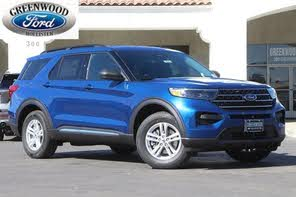Ford Explorer: (7, 43, 288, 171)
